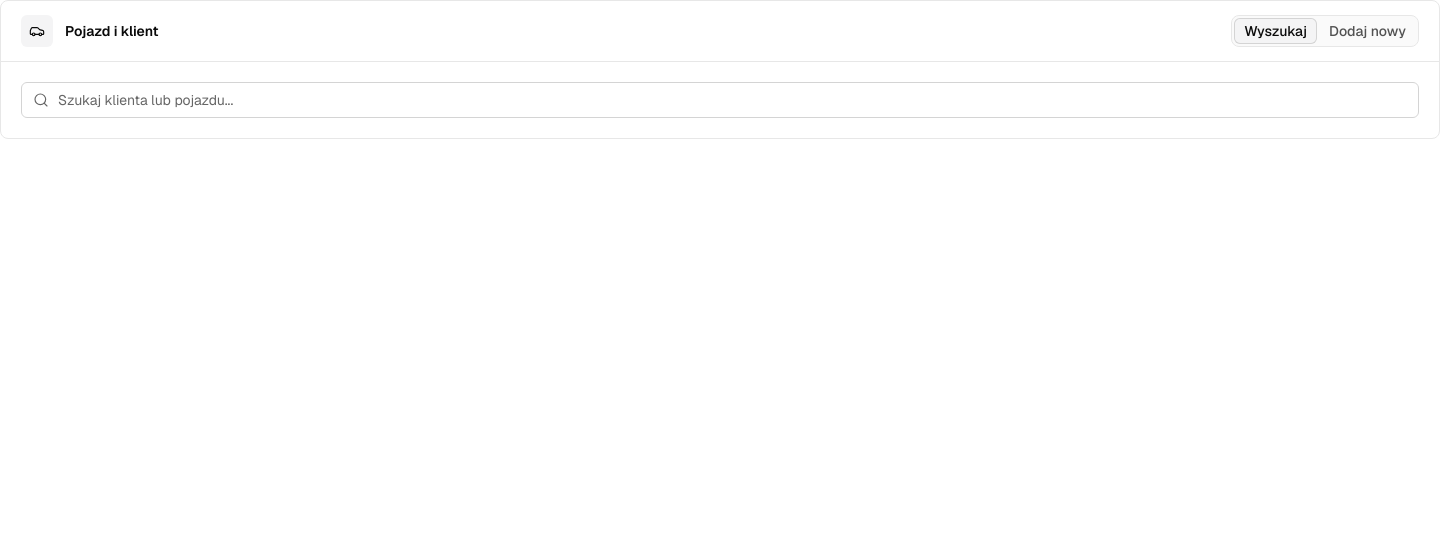
Test: ClientVehiclePicker › shows validation errors inline and does not create an invalid client
Click the radio button labelled "Dodaj nowy": (1367, 31) [1319,18,1416,44]
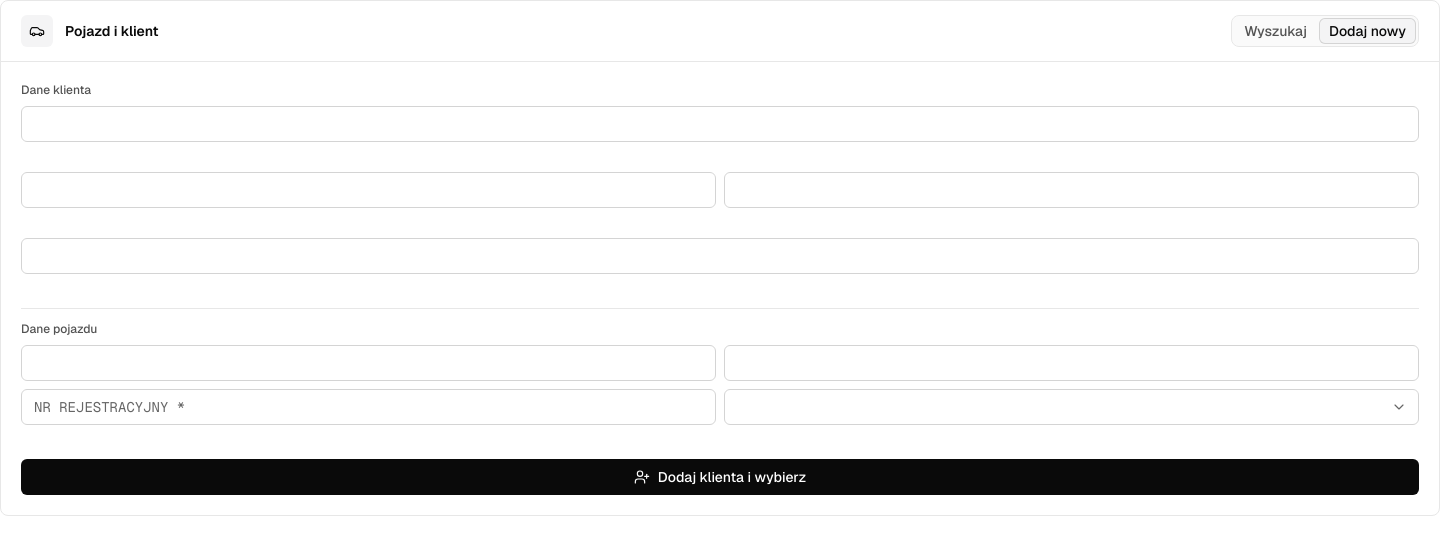
Click the button "Dodaj klienta i wybierz": (720, 477) [21,459,1419,495]
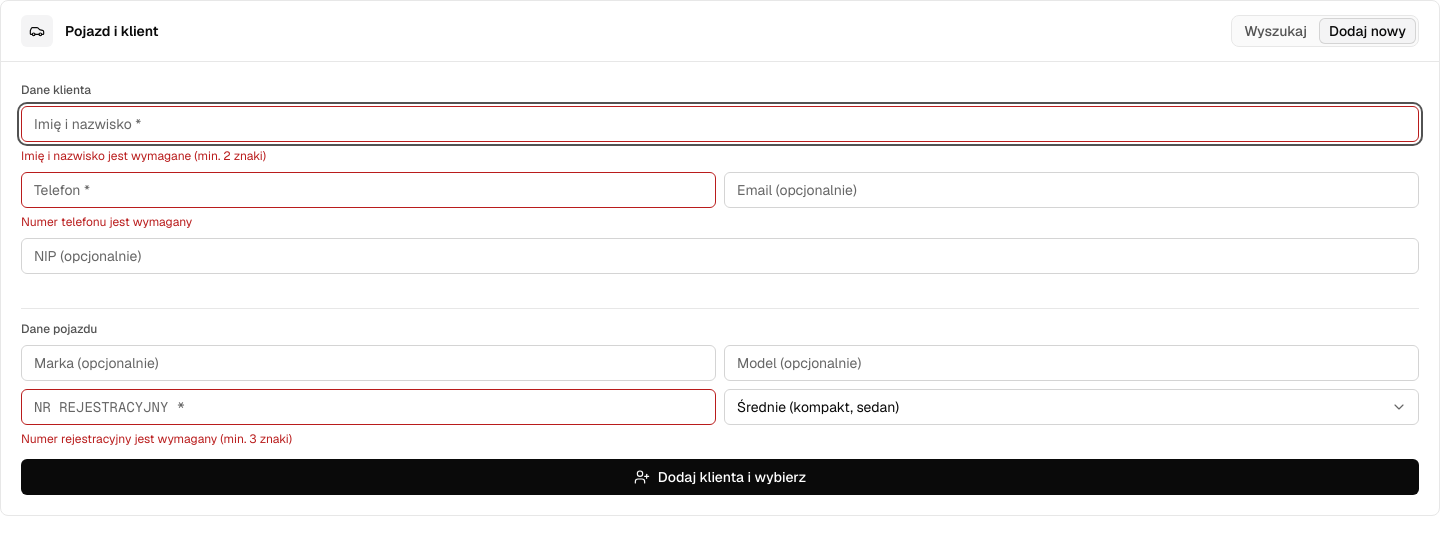
Expected: the text "Imię i nazwisko jest wymagane (min. 2 znaki)" is shown, [21,148,266,164]
Expected: the text "Numer rejestracyjny jest wymagany (min. 3 znaki)" is shown, [21,431,292,447]
